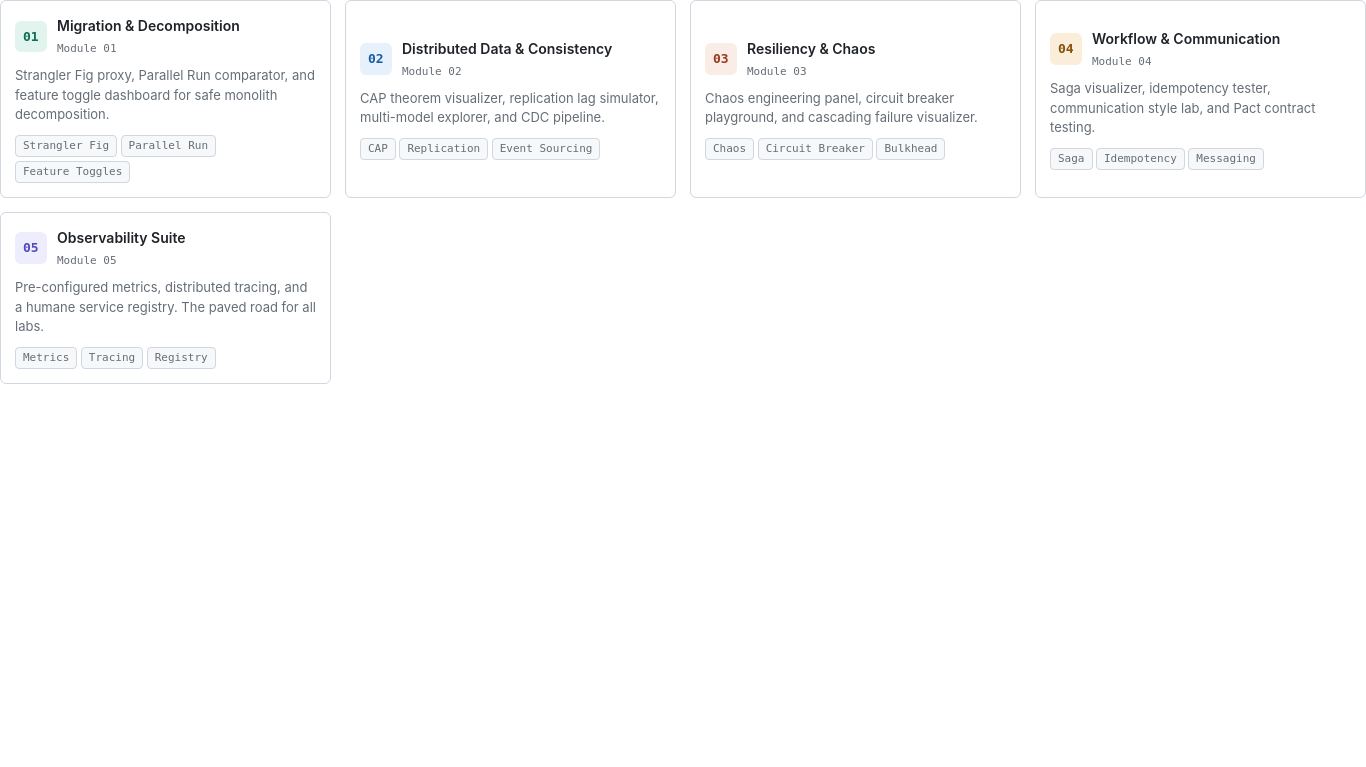
it: labs prototype flow › selects a module and switches accessible detail tabs
The image size is (1366, 767).
Click the button "Resiliency & Chaos" at {"x": 856, "y": 99}, box [690,0,1021,198]
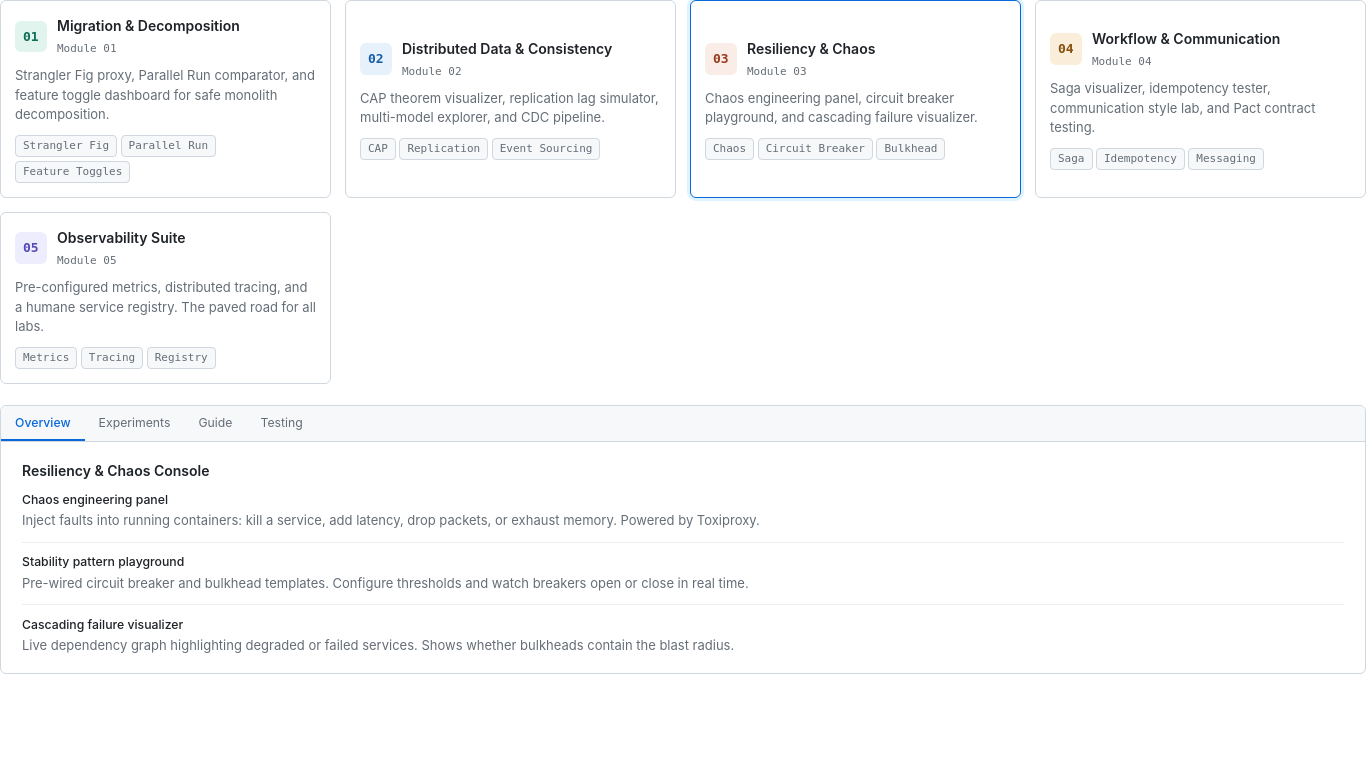
Expected: the panel named "Overview" is shown, [1,442,1365,673]
Expected: the text "Chaos engineering panel" is shown, [22,492,168,507]
Click the tab "Experiments" at {"x": 135, "y": 424}, box [85,406,184,441]
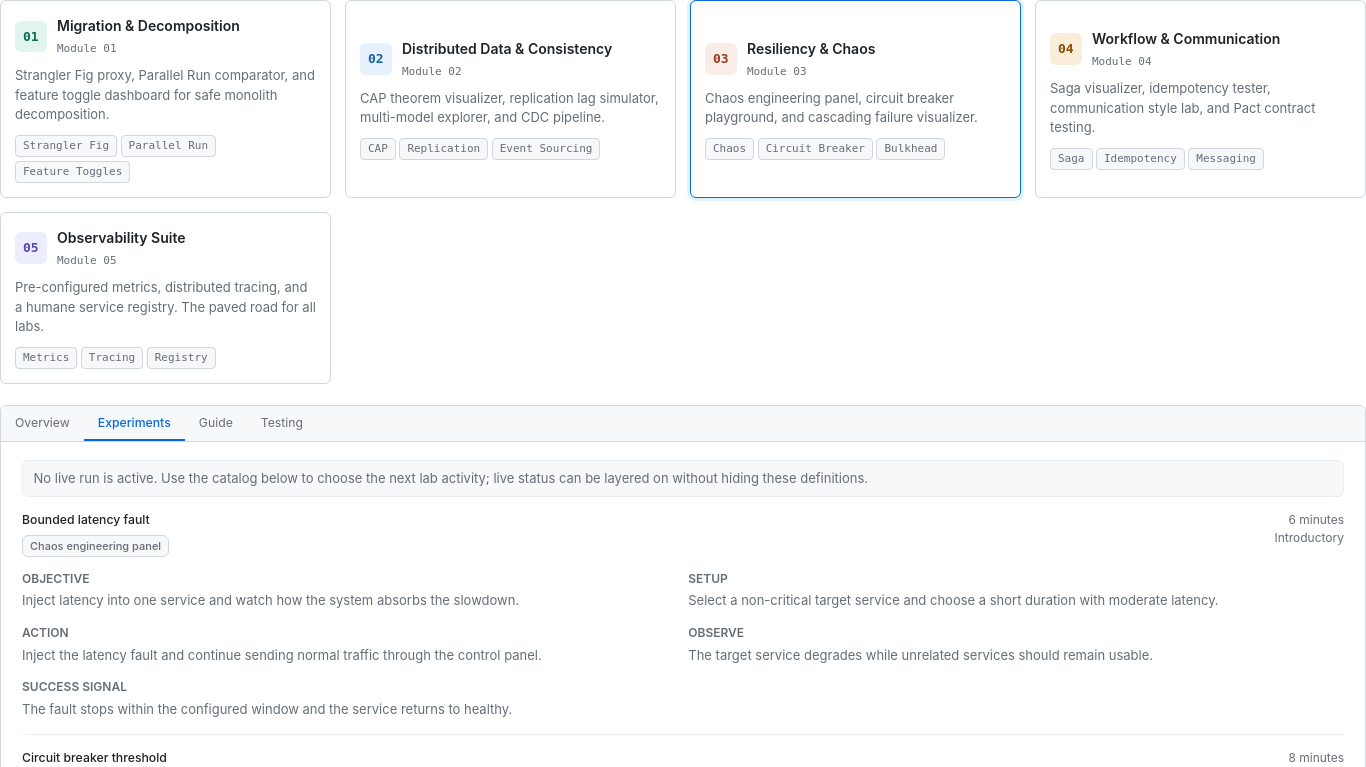
Expected: the panel named "Experiments" shows "Bounded latency fault", [22,512,150,526]
Click the tab "Guide" at {"x": 216, "y": 424}, box [185,406,247,441]
(page scrolled)
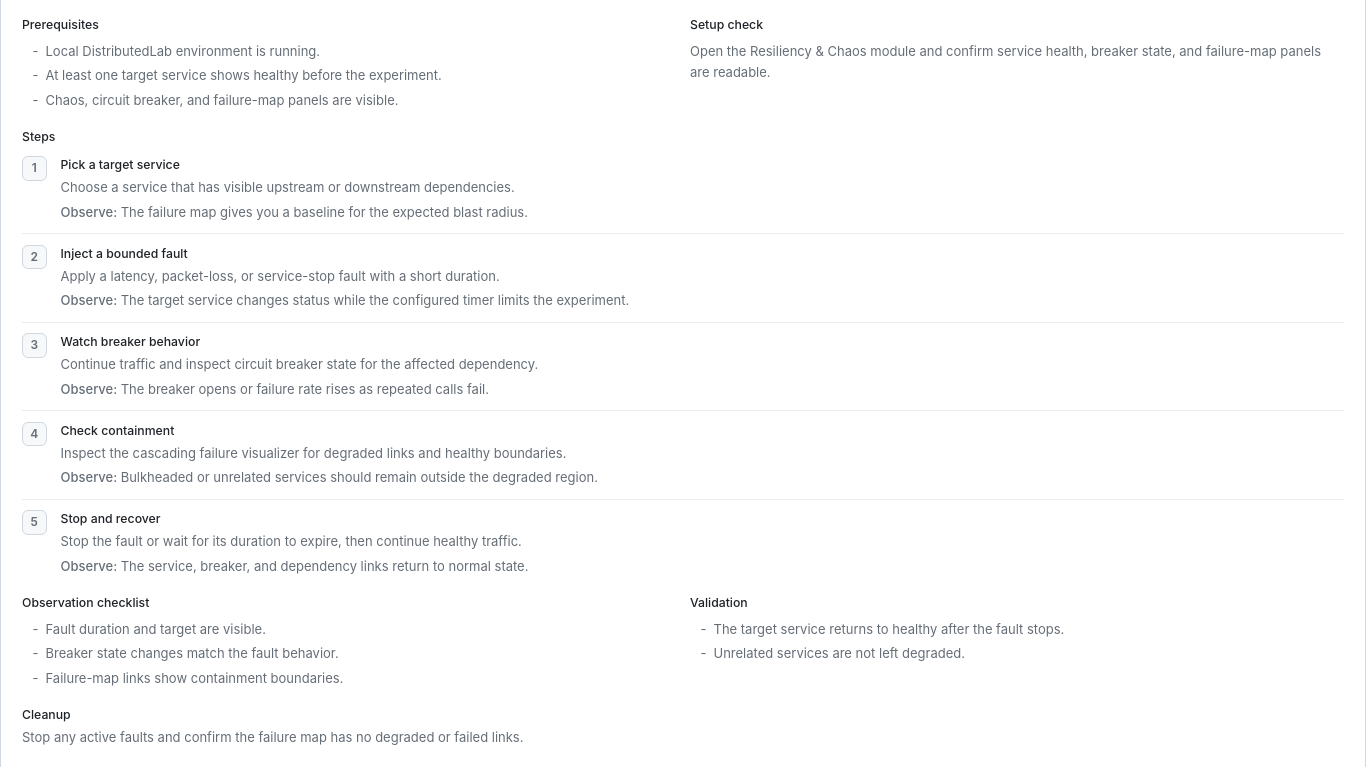
Expected: the panel named "Guide" shows "Inject a bounded fault", [60,246,188,260]
